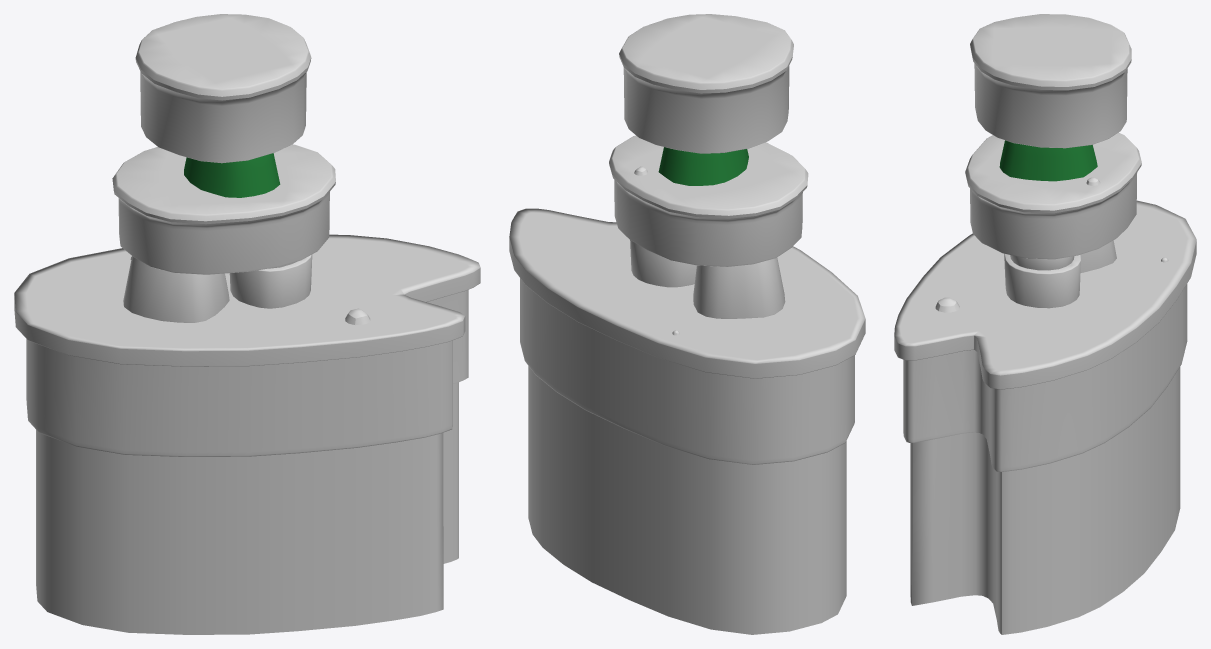
The model's file is island_M2.FBX.
The picture shows the model from 3 angles, left to right: view 1: azimuth 30°, elevation 25°; view 2: azimuth 150°, elevation 25°; view 3: azimuth 270°, elevation 25°; orthographic projection. The views are drawn at different scales.
Parts seen in each view (by area): view 1: Line023, Line019, Line002, Line028, Box041, Line004; view 2: Line023, Line019, Line002, Line028, Box041, Line004; view 3: Line023, Line019, Line002, Box041, Line004, Line028, Line005.
Boxes of the visible parts, x1=… form: Line023: x1=14, y1=234, x2=480, y2=634; Line019: x1=135, y1=14, x2=311, y2=163; Line002: x1=112, y1=144, x2=335, y2=274; Line028: x1=123, y1=256, x2=229, y2=322; Box041: x1=184, y1=153, x2=280, y2=197; Line004: x1=229, y1=254, x2=312, y2=308; Line023: x1=509, y1=208, x2=865, y2=634; Line019: x1=619, y1=14, x2=793, y2=153; Line002: x1=609, y1=135, x2=808, y2=266; Line028: x1=693, y1=257, x2=785, y2=318; Box041: x1=658, y1=147, x2=748, y2=185; Line004: x1=630, y1=240, x2=696, y2=287; Line023: x1=894, y1=200, x2=1196, y2=634; Line019: x1=970, y1=14, x2=1131, y2=148; Line002: x1=965, y1=132, x2=1141, y2=259; Box041: x1=999, y1=140, x2=1097, y2=181; Line004: x1=1004, y1=253, x2=1080, y2=308; Line028: x1=1080, y1=240, x2=1116, y2=272; Line005: x1=1010, y1=255, x2=1074, y2=270.
Bounding box in the file's own units: 4405 × 5638 × 3124.
